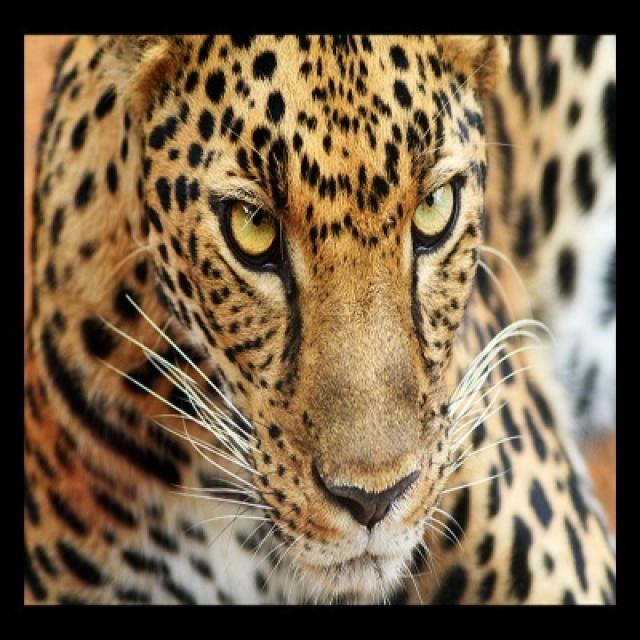Jaguar: (26, 32, 611, 608)
